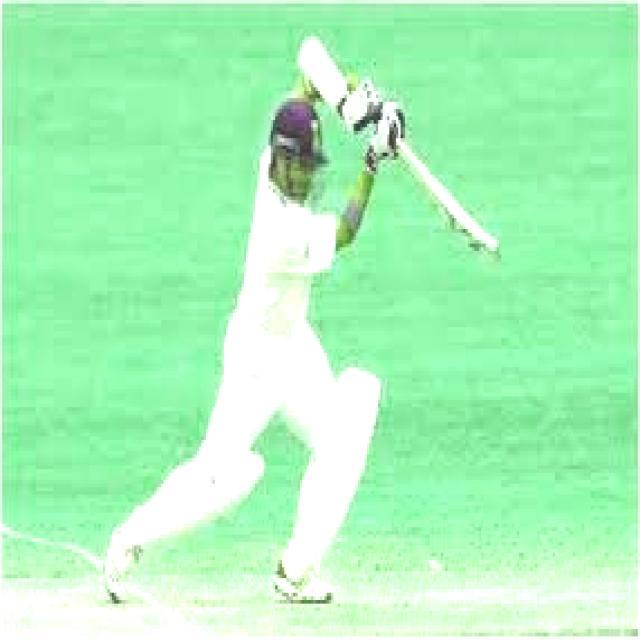bat: (395, 141, 505, 258)
toe: (490, 238, 507, 263)
